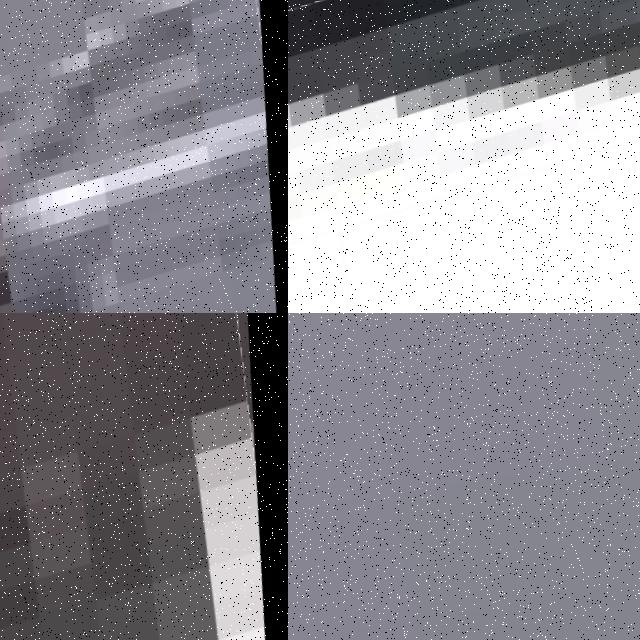drone: (288, 0, 640, 313), (0, 313, 288, 640), (0, 0, 288, 313)
